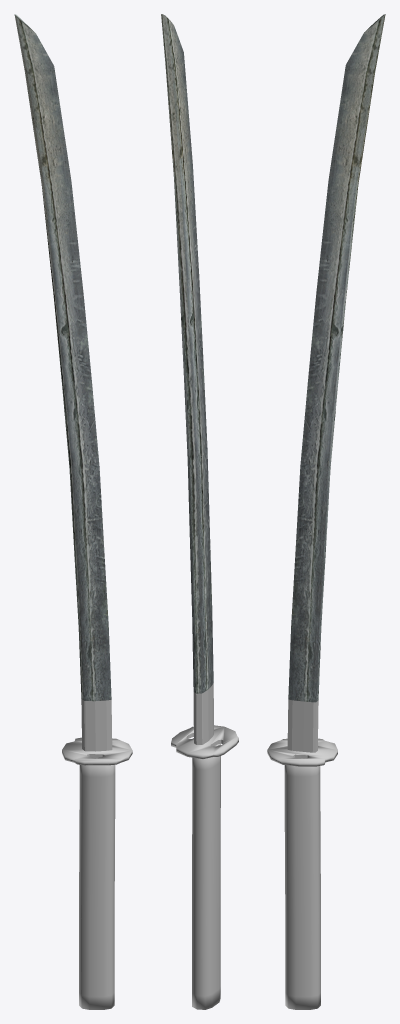
The model's file is SM_Katana_00.fbx.
The picture shows the model from 3 angles, left to right: view 1: azimuth 90°, elevation 25°; view 2: azimuth 150°, elevation 25°; view 3: azimuth 270°, elevation 25°; orthographic projection. The views are drawn at different scales.
Visible parts, largest first — view 1: SM_Katana_00; view 2: SM_Katana_00; view 3: SM_Katana_00.
Part boxes in pixels (x1,y1,x2,y2): SM_Katana_00: (14, 14, 132, 1009); SM_Katana_00: (161, 14, 238, 1009); SM_Katana_00: (267, 14, 385, 1009).
Bounding box in the file's own units: 9.73 × 183 × 19.76.
